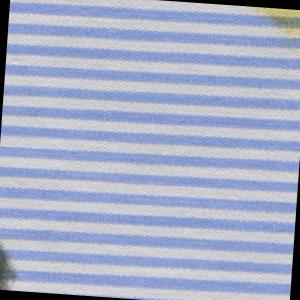Stain: (256, 8, 300, 44), (1, 230, 24, 292)
